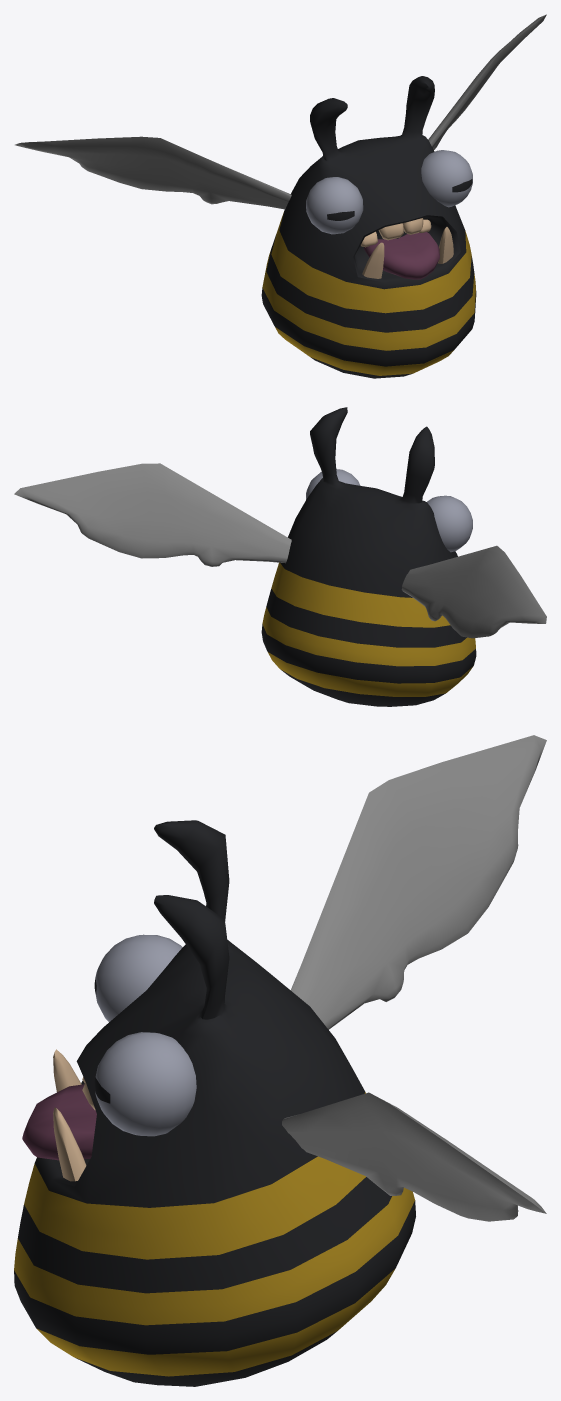
File: cc0-armabee-evolved-lod0.glb
The picture shows the model from 3 angles, top to bottom: view 1: azimuth 30°, elevation 25°; view 2: azimuth 150°, elevation 25°; view 3: azimuth 270°, elevation 25°; orthographic projection. The views are drawn at different scales.
Visible parts, largest first — view 1: part_12; view 2: part_12; view 3: part_12.
Boxes of the visible parts, left/top/right/bottom form: part_12: left=15, top=14, right=546, bottom=378; part_12: left=14, top=407, right=546, bottom=706; part_12: left=14, top=735, right=546, bottom=1386.
Bounding box in the file's own units: 4.3 × 2.14 × 2.05.
1 material, 1 textured.
